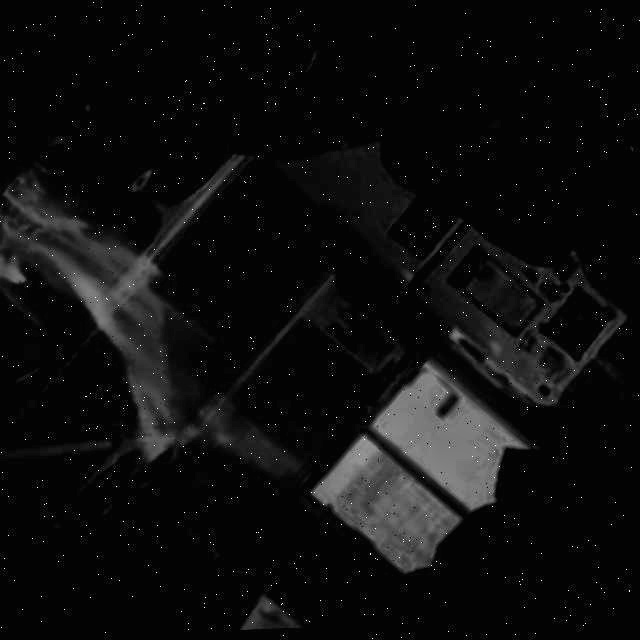Fire: (0, 152, 345, 533)
